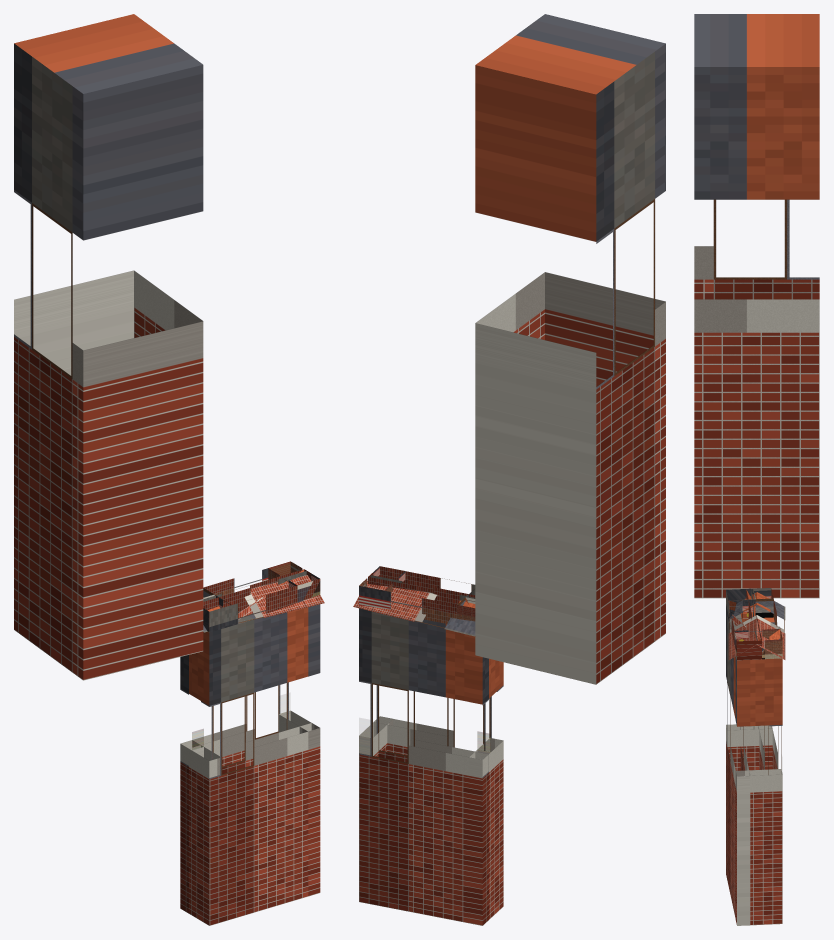
3 renders of one model, left to right at view 1: azimuth 30°, elevation 25°; view 2: azimuth 150°, elevation 25°; view 3: azimuth 270°, elevation 25°, orthographic. The views are drawn at different scales.
Parts seen in each view (by area): view 1: 238636765__chimney_0_xb, 238636765__wall_2_xb, 238636765__wall_1_xb, 238636765__wall_3_xb, 238636765__wall_4_xb, 238636765__cornice_2, 238636765_roof_-1_xb, 238636765__cornice_4, 238636765__wall_0_xb, 238636765__cornice_3; view 2: 238636765__chimney_0_xb, 238636765__wall_4_xb, 238636765__wall_0_xb, 238636765__wall_1_xb, 238636765__wall_2_xb, 238636765_roof_1_xb, 238636765__cornice_4, 238636765__cornice_2, 238636765__wall_3_xb; view 3: 238636765__chimney_0_xb, 238636765__wall_3_xb, 238636765__wall_2_xb, 238636765__wall_1_xb, 238636765__cornice_2, 238636765__cornice_3, 238636765_roof_-1_xb, 238636765_roof_1_xb, 238636765__wall_0_xb, 238636765__wall_4_xb, 238636765__cornice_0, 238636765__cornice_1.
Boxes of the visible parts, x1,y1,x2,y2 form: 238636765__chimney_0_xb: (14, 14, 203, 680); 238636765__wall_2_xb: (201, 607, 311, 925); 238636765__wall_1_xb: (192, 631, 219, 925); 238636765__wall_3_xb: (278, 604, 320, 896); 238636765__wall_4_xb: (180, 612, 288, 913); 238636765__cornice_2: (203, 569, 320, 632); 238636765_roof_-1_xb: (203, 575, 324, 632); 238636765__cornice_4: (203, 561, 306, 612); 238636765__wall_0_xb: (180, 654, 203, 915); 238636765__cornice_3: (268, 561, 320, 602); 238636765__chimney_0_xb: (475, 14, 665, 684); 238636765__wall_4_xb: (359, 608, 488, 925); 238636765__wall_0_xb: (469, 635, 490, 925); 238636765__wall_1_xb: (478, 659, 503, 917); 238636765__wall_2_xb: (373, 685, 503, 755); 238636765_roof_1_xb: (353, 580, 475, 636); 238636765__cornice_4: (359, 575, 475, 623); 238636765__cornice_2: (368, 566, 475, 600); 238636765__wall_3_xb: (359, 716, 393, 756); 238636765__chimney_0_xb: (694, 14, 819, 598); 238636765__wall_3_xb: (735, 656, 782, 925); 238636765__wall_2_xb: (726, 609, 750, 925); 238636765__wall_1_xb: (726, 612, 754, 770); 238636765__cornice_2: (726, 588, 761, 660); 238636765__cornice_3: (734, 629, 782, 659); 238636765_roof_-1_xb: (728, 592, 756, 659); 238636765_roof_1_xb: (757, 592, 785, 659); 238636765__wall_0_xb: (754, 612, 772, 769); 238636765__wall_4_xb: (758, 617, 782, 774); 238636765__cornice_0: (753, 588, 773, 617); 238636765__cornice_1: (728, 588, 755, 618).
Size of the model in its own units: 0.3255 by 1.05 by 0.15.
1 material, 1 textured.
